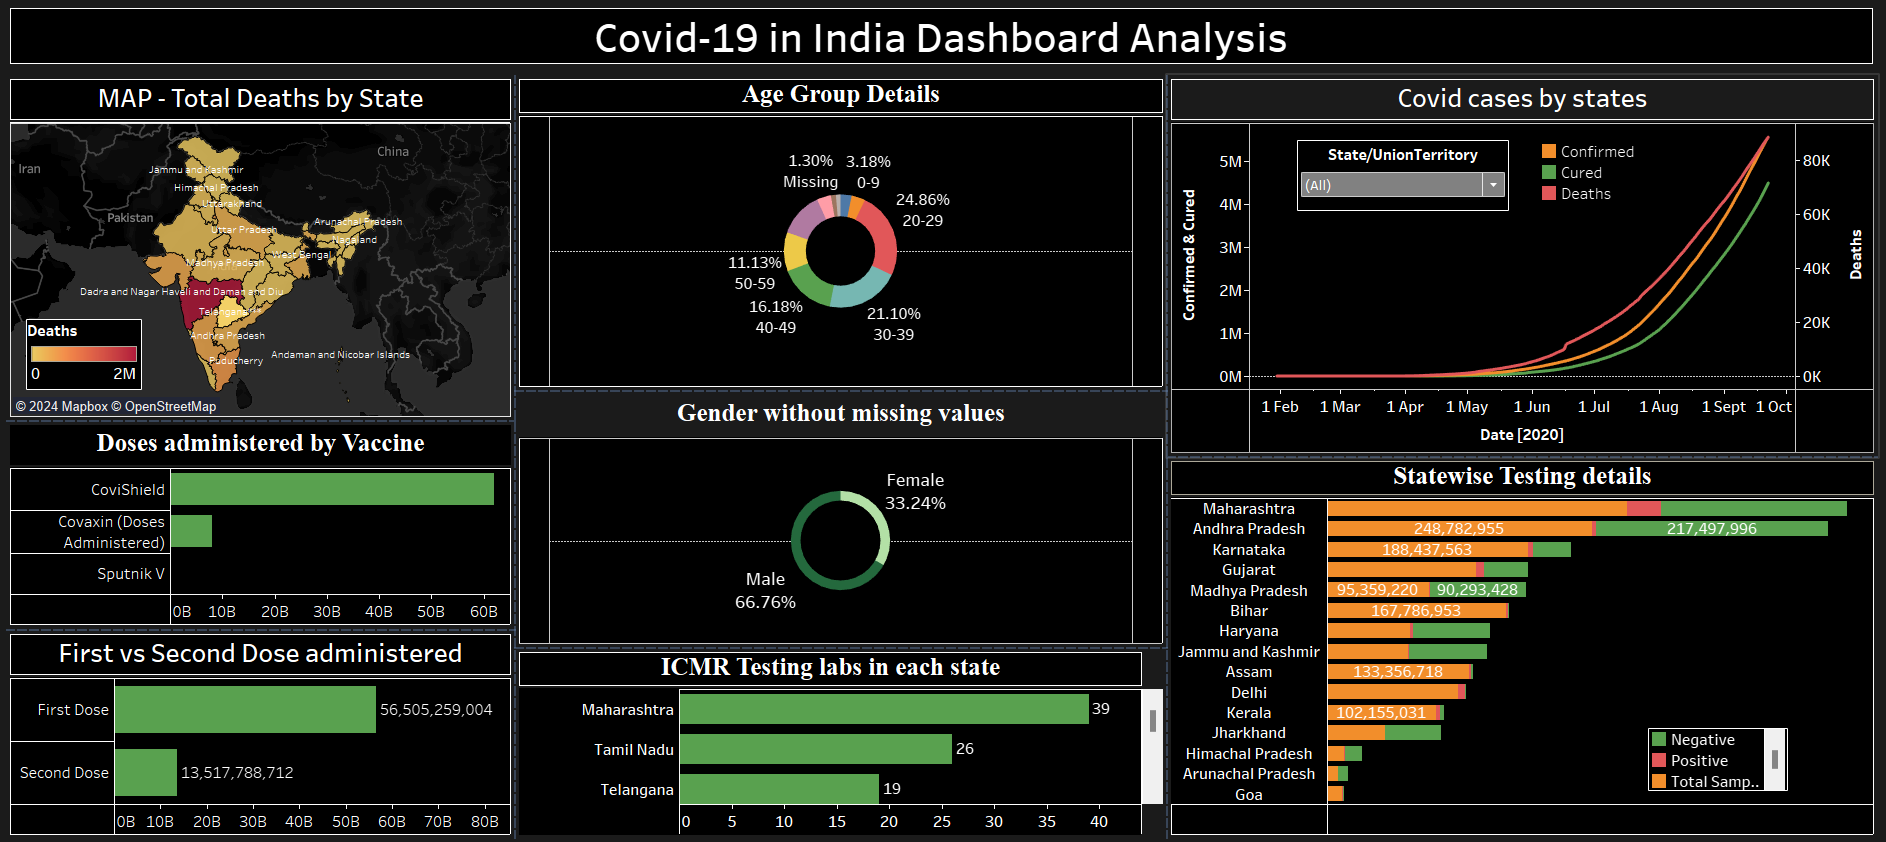

The page's visual inventory and layout, read from the dashboard file:
{"tool":"tableau","page":{"name":"Dashboard 1","canvas":[1000,1000],"units":"permille","ordinal":0},"visuals":[{"type":"worksheet","title":"Title","mark":"Automatic","box":[4.2,9.4,991.5,83.4]},{"type":"worksheet","title":"Map - Total Deaths by State","mark":"Multipolygon","box":[4.2,92.8,269.4,406.5]},{"type":"worksheet","title":"Age Group Details","mark":"Pie","rows":["Calculation_1243274973520793601","Calculation_1243274973520863235"],"box":[273.7,92.8,345.6,371.3]},{"type":"worksheet","title":"Covid Cases by States","mark":"Automatic","rows":["Deaths"],"cols":["Date"],"box":[619.3,92.8,376.5,448.9]},{"type":"legend","title":"Covid Cases by States","param":"[federated.0c6c43y0toc4gm187ibx81ugqqdt].[:Measure Names]","box":[512.2,164.5,74.2,74]},{"type":"filter","title":"Covid Cases by States","param":"[federated.0c6c43y0toc4gm187ibx81ugqqdt].[none:State/UnionTerritory:nk]","box":[688,169.2,112.2,83.4]},{"type":"legend","title":"Map - Total Deaths by State","param":"[federated.0c6c43y0toc4gm187ibx81ugqqdt].[sum:Deaths:qk]","box":[15.1,379.6,61.6,83.4]},{"type":"worksheet","title":"Gender Without missing values","mark":"Pie","rows":["Calculation_1243274973526249477","Calculation_1243274973526249477"],"box":[273.7,464.1,345.6,302]},{"type":"worksheet","title":"Doses administered by Vaccine","mark":"Automatic","box":[4.2,499.3,269.4,245.6]},{"type":"worksheet","title":"statewise testing details","mark":"Automatic","rows":["State"],"box":[619.3,541.6,376.5,449]},{"type":"worksheet","title":"First Vs Second dose administrated","mark":"Automatic","box":[4.2,744.9,269.4,245.7]},{"type":"worksheet","title":"ICMR Testing labs in each state","mark":"Automatic","rows":["state"],"cols":["lab"],"box":[273.7,766.1,345.6,224.5]},{"type":"legend","title":"statewise testing details","param":"[federated.0xf7bta1i6z0sv11tqv8m07h3lqc].[:Measure Names]","box":[873.9,860.2,74.2,74]}]}

Visuals, with their boxes on the dashboard's canvas, which has no fixed pixel size, in thousandths of its width and height (x1, y1, x2, y2). These are canvas units, not pixel positions in the 1886x842 screenshot, which may show the page scaled, cropped or inside an application window:
"Title" worksheet: locate(4, 9, 996, 93)
"Map - Total Deaths by State" worksheet (Multipolygon marks): locate(4, 93, 274, 499)
"Age Group Details" worksheet (Pie marks): locate(274, 93, 619, 464)
"Covid Cases by States" worksheet: locate(619, 93, 996, 542)
"Covid Cases by States" legend: locate(512, 164, 586, 238)
"Covid Cases by States" filter: locate(688, 169, 800, 253)
"Map - Total Deaths by State" legend: locate(15, 380, 77, 463)
"Gender Without missing values" worksheet (Pie marks): locate(274, 464, 619, 766)
"Doses administered by Vaccine" worksheet: locate(4, 499, 274, 745)
"statewise testing details" worksheet: locate(619, 542, 996, 991)
"First Vs Second dose administrated" worksheet: locate(4, 745, 274, 991)
"ICMR Testing labs in each state" worksheet: locate(274, 766, 619, 991)
"statewise testing details" legend: locate(874, 860, 948, 934)
